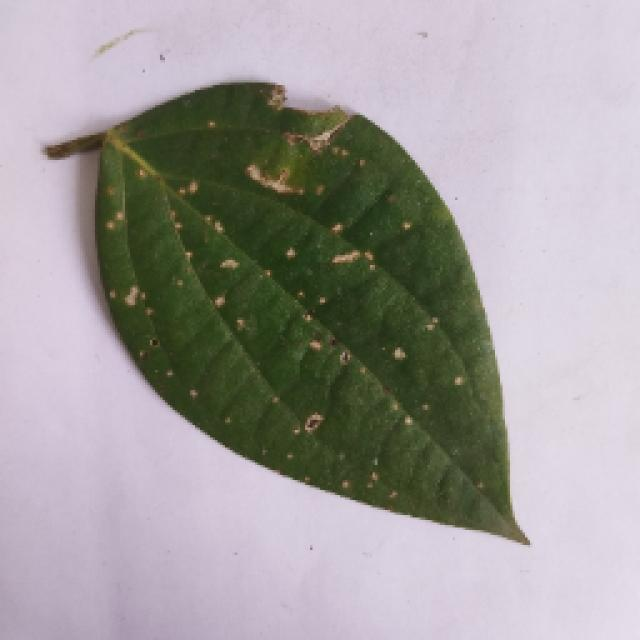pollu-disease: (30, 65, 548, 545)
